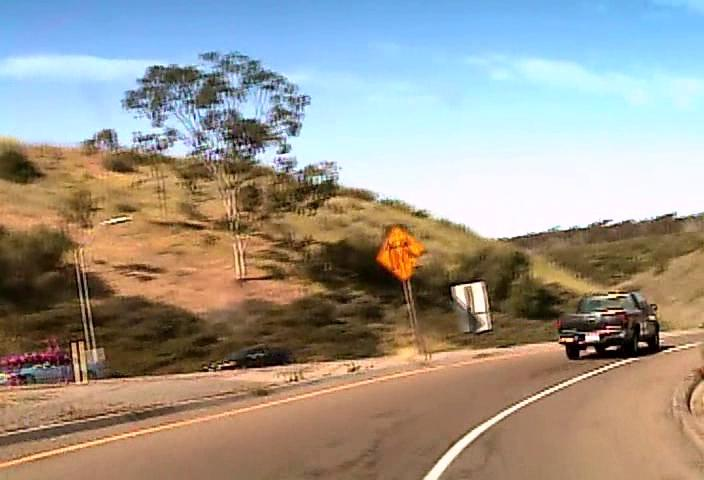addedLane: (376, 222, 426, 280)
